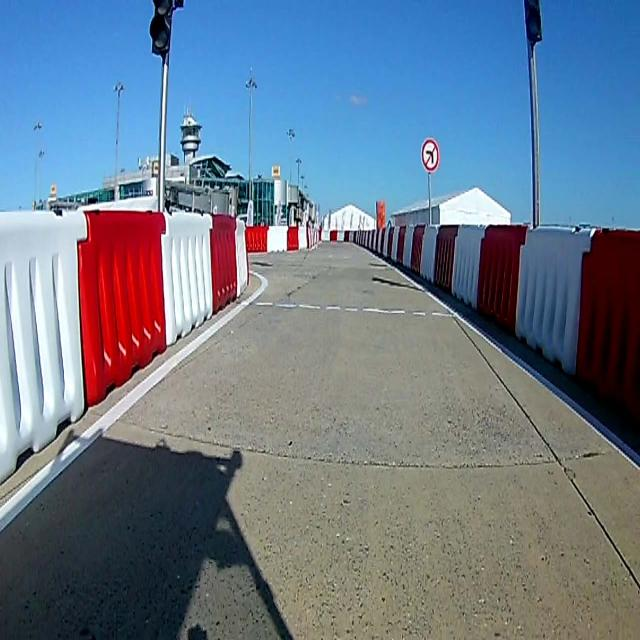soladonulmez: (421, 138, 442, 174)
